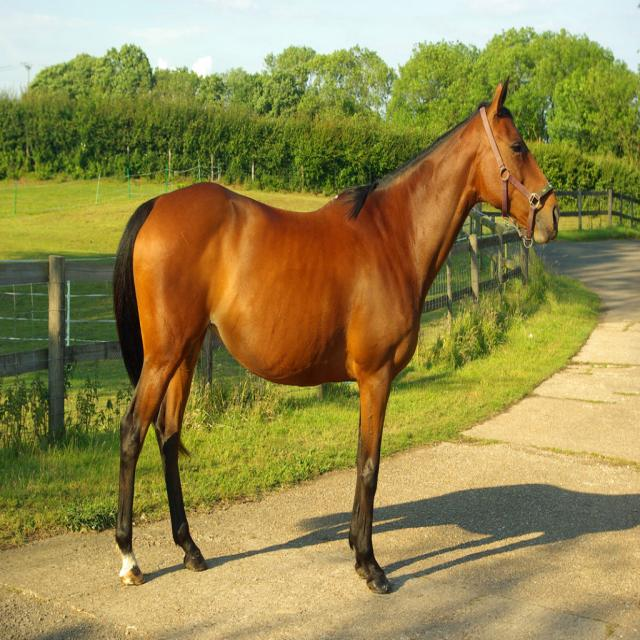Horse: (115, 75, 561, 597)
